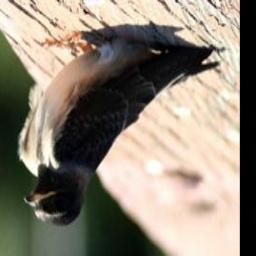Swallow: (17, 29, 224, 230)
